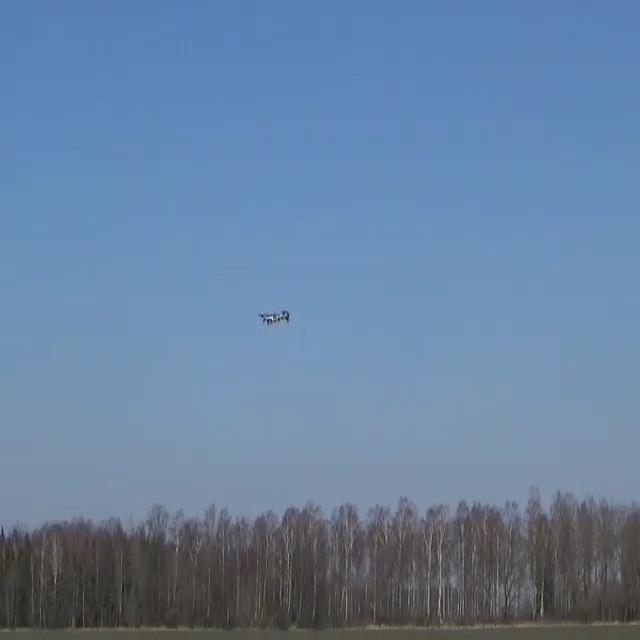drone: (257, 309, 290, 325)
